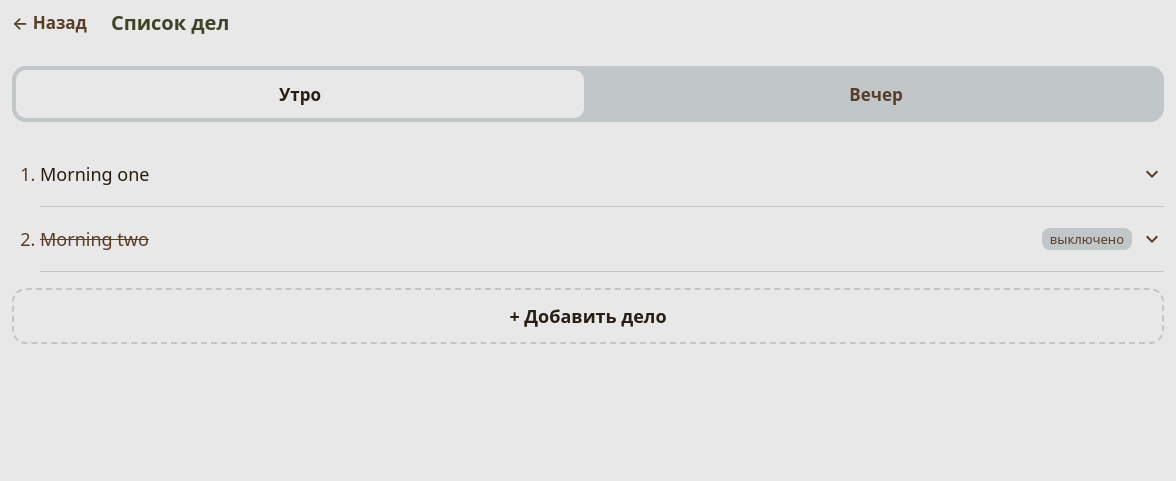
Test: Editor: adding › submits with Enter and closes the form
Click the button "+ Добавить дело": (588, 316) [12,288,1164,344]
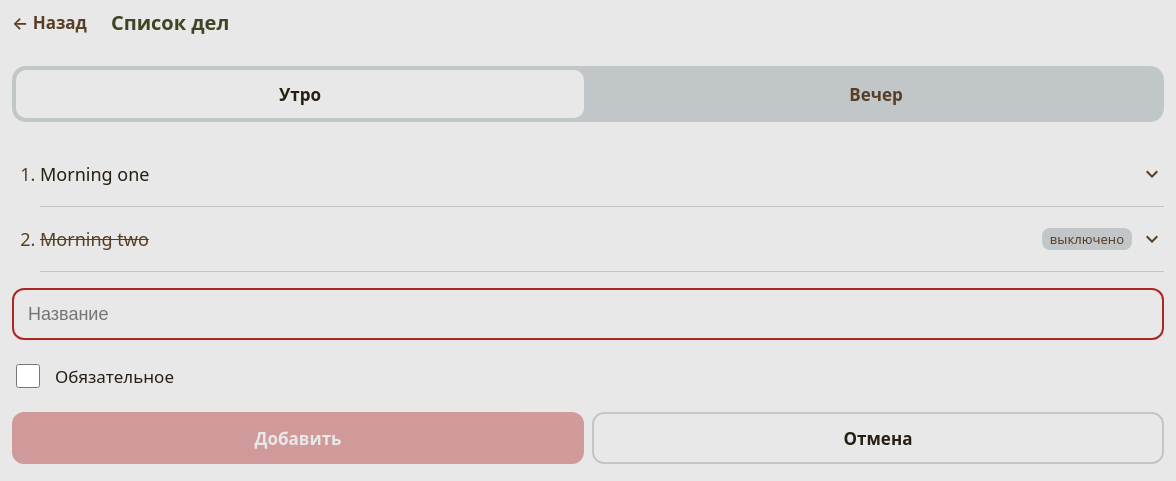
In the field named "Название нового дела": (588, 314) [12,288,1164,340], type "Через Enter"
Then press Enter
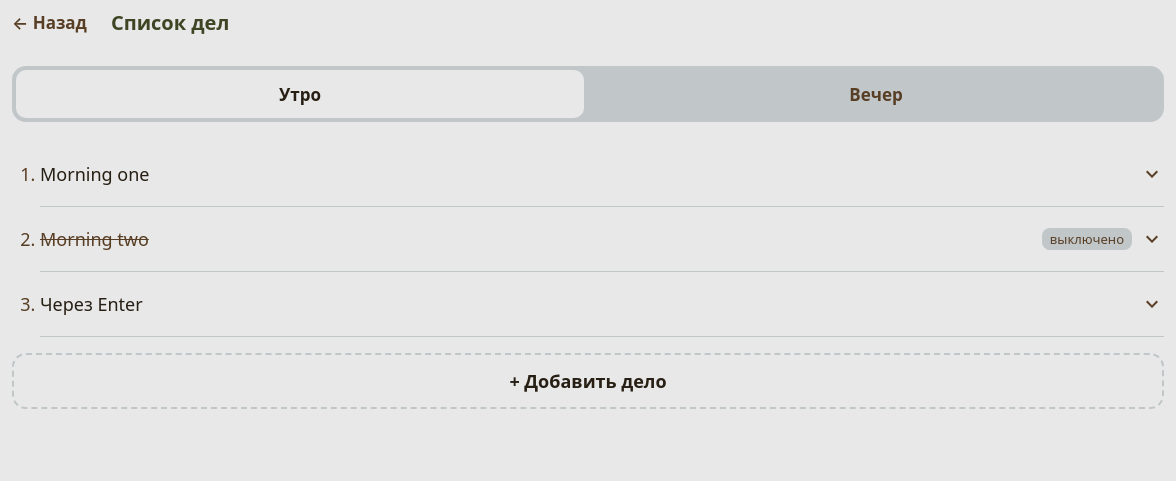
Expected: the text "Через Enter" is shown, [40,292,143,316]
Expected: the field is gone
Expected: the button "+ Добавить дело" is shown, [12,353,1164,409]
